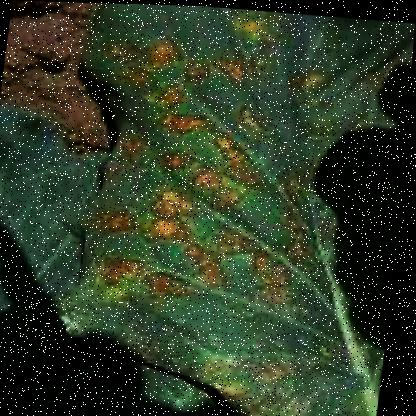DownyMildew: (87, 22, 329, 321)
